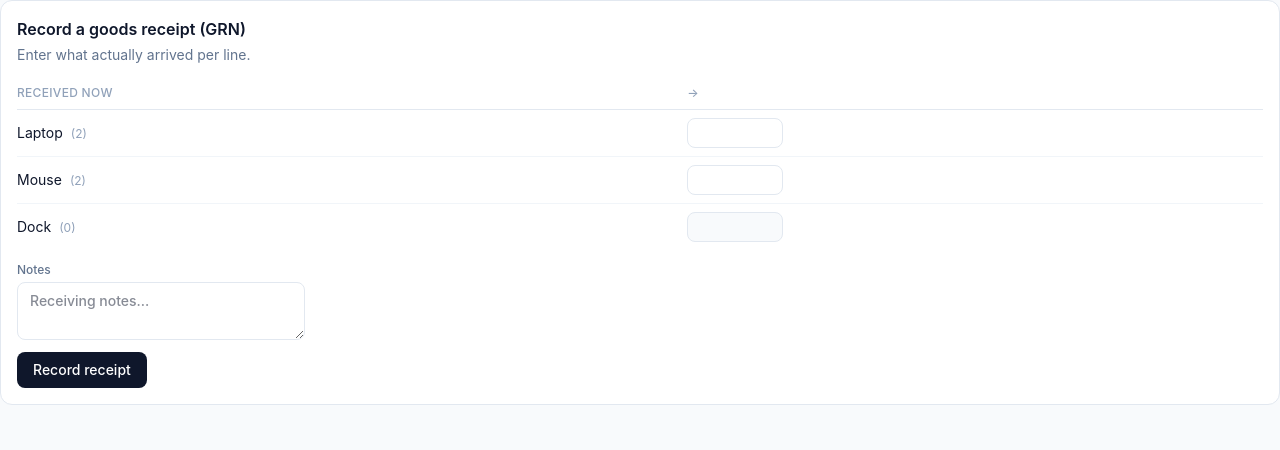
Scenario: GoodsReceiptForm › validates per field without a round trip: zero and over-remaining qty
Type "0" into the number field with test id "grn-qty-it-1". click: {"x": 735, "y": 133}
box: [687, 118, 783, 148]
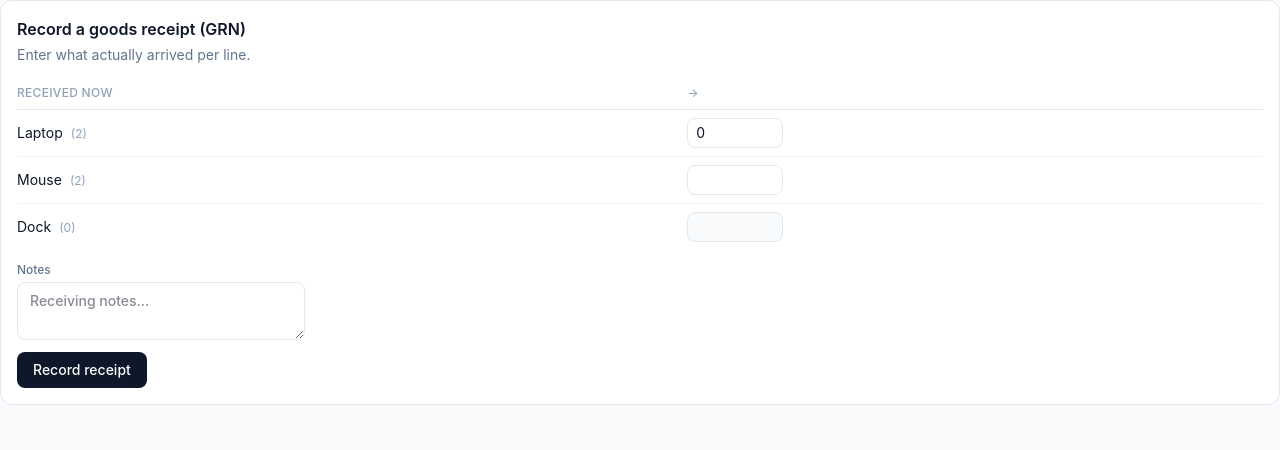
Type "3" into the number field with test id "grn-qty-it-2". click: {"x": 735, "y": 180}
box: [687, 165, 783, 195]
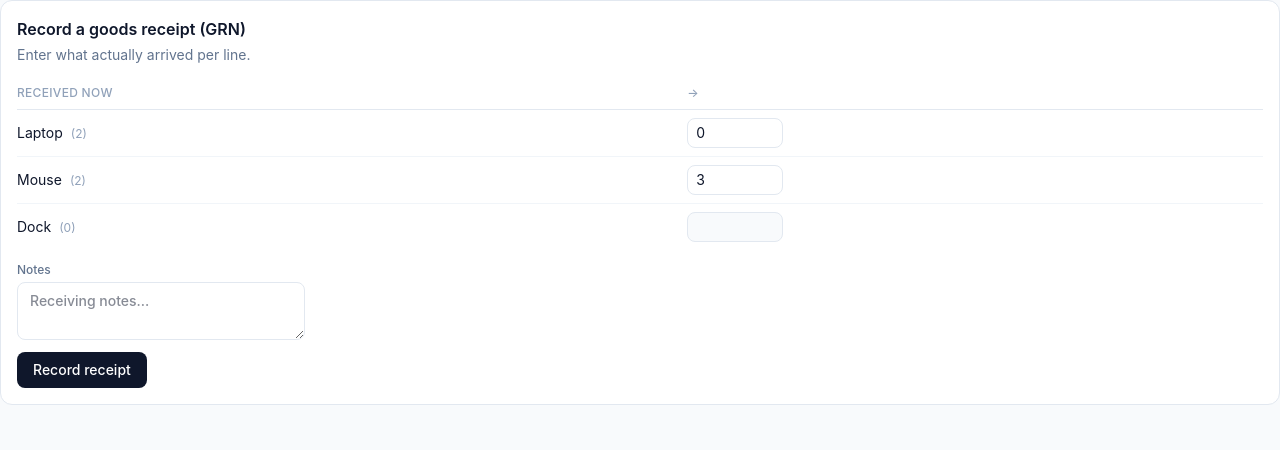
Click the button with test id "grn-submit". click: {"x": 82, "y": 370}
box: [17, 352, 147, 388]
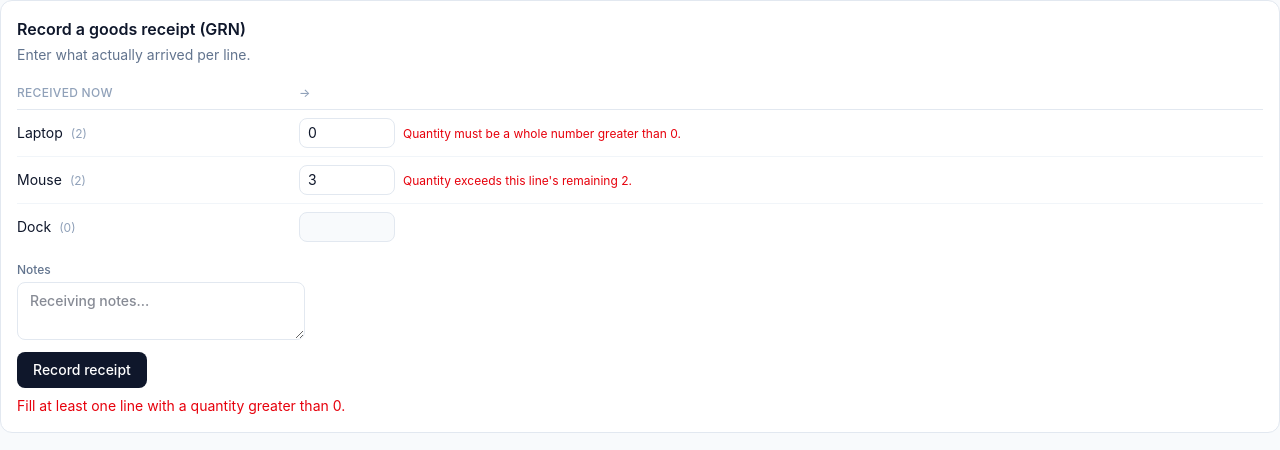
Expected: the message with test id "grn-error-it-1" reads "Quantity must be a whole number greater than 0.", [403, 126, 681, 141]
Expected: the message with test id "grn-form-error" reads "Fill at least one line with a quantity greater than 0.", [17, 397, 345, 414]
